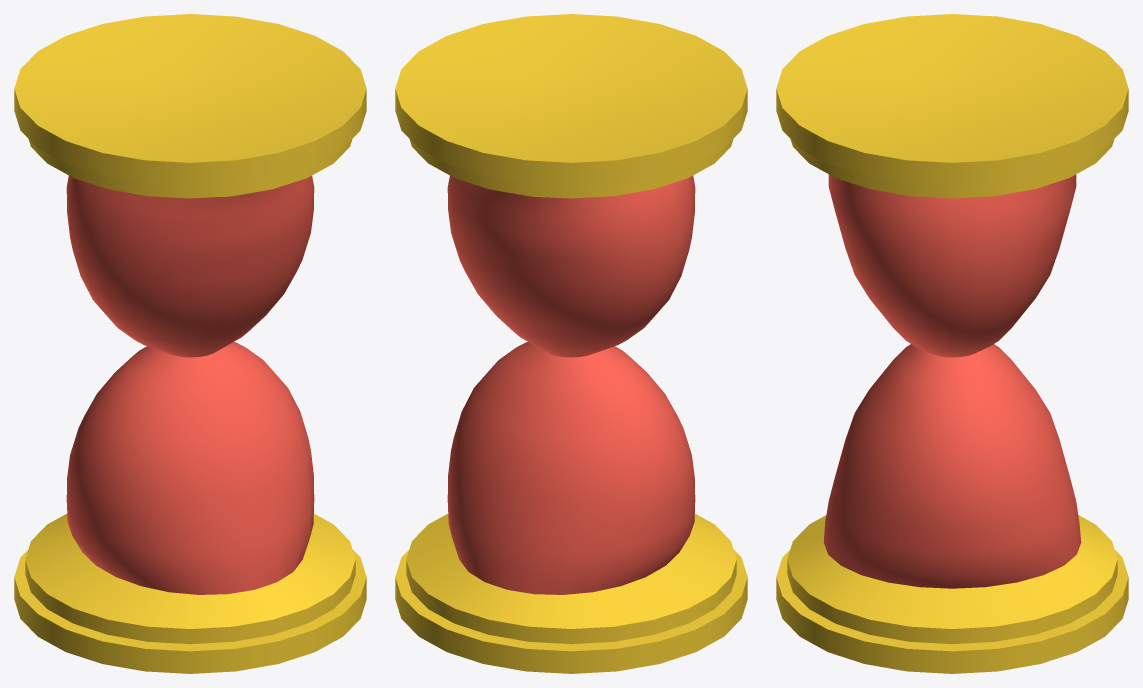
The model's file is redclock.fbx.
3 views of the same model, side by side, from view 1: azimuth 30°, elevation 25°; view 2: azimuth 150°, elevation 25°; view 3: azimuth 270°, elevation 25° (orthographic).
Visible parts, largest first — view 1: Sphere.009; view 2: Sphere.009; view 3: Sphere.009.
Part boxes in pixels (left/top/right/bottom): Sphere.009: left=14, top=14, right=366, bottom=673; Sphere.009: left=395, top=14, right=747, bottom=673; Sphere.009: left=776, top=14, right=1128, bottom=673.
Bounding box in the file's own units: 0.3965 × 0.6346 × 0.3965.
